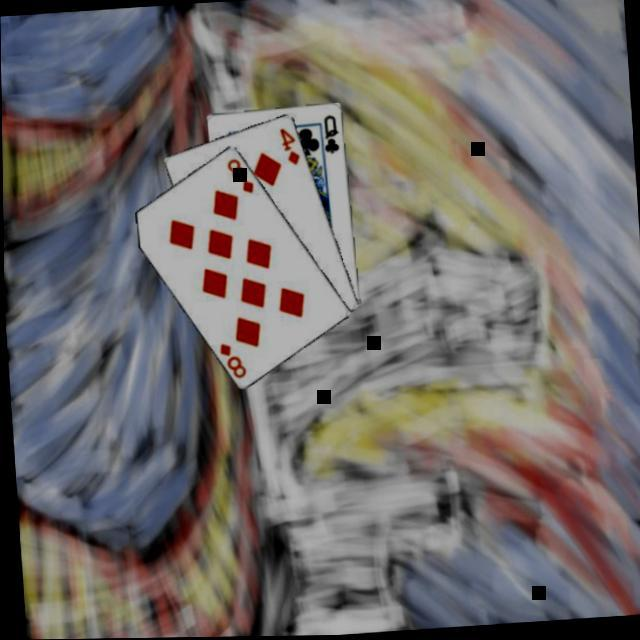4D: (277, 126, 304, 170)
8D: (224, 157, 258, 200), (217, 341, 249, 384)
QC: (321, 114, 343, 159)
